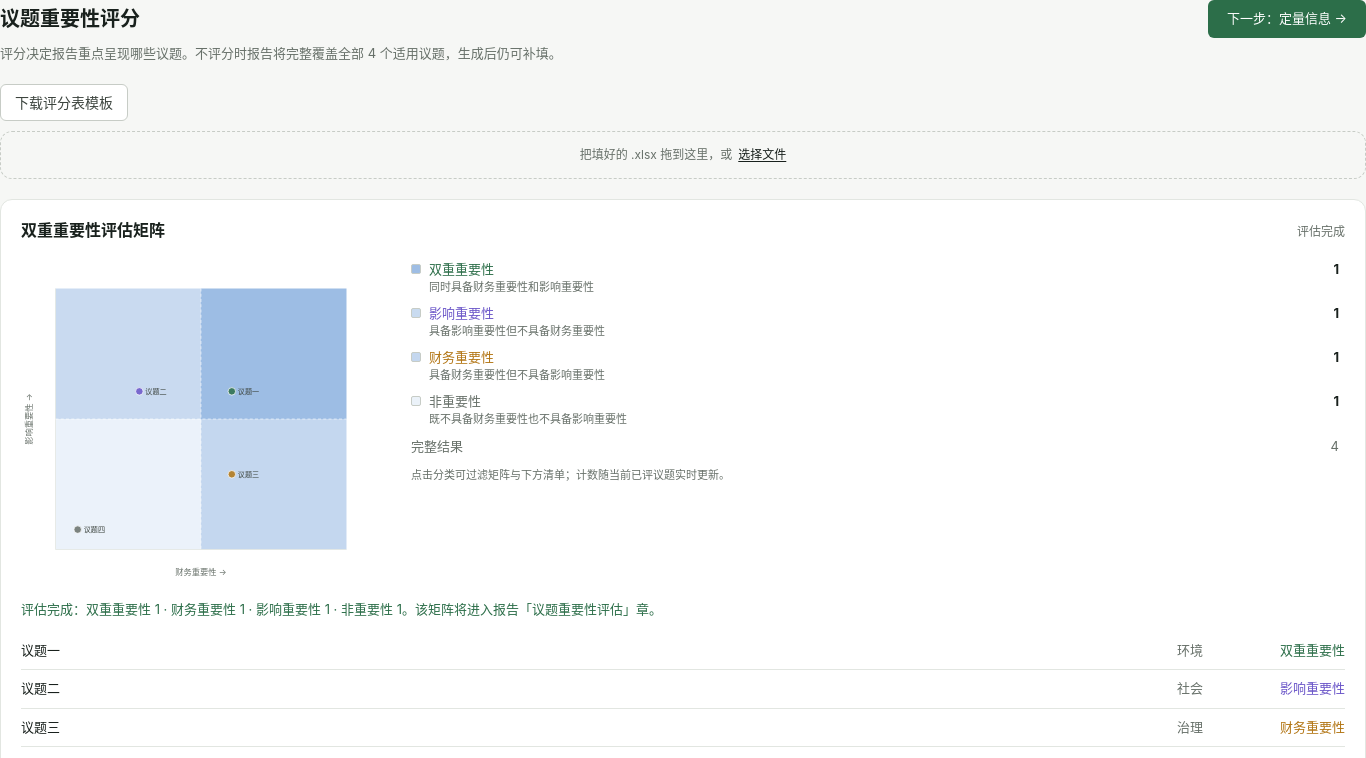
Scenario: 评分页分类图例交互 › 点击图例即时淡出对应散点并过滤清单，完整结果恢复全显
Expected: the picture named "双重重要性议题矩阵" is shown, [21,254,381,584]
Click the button "双重重要性 1 同时具备财务重要性和影响重要性" at (462, 269), box [405,256,1345,300]
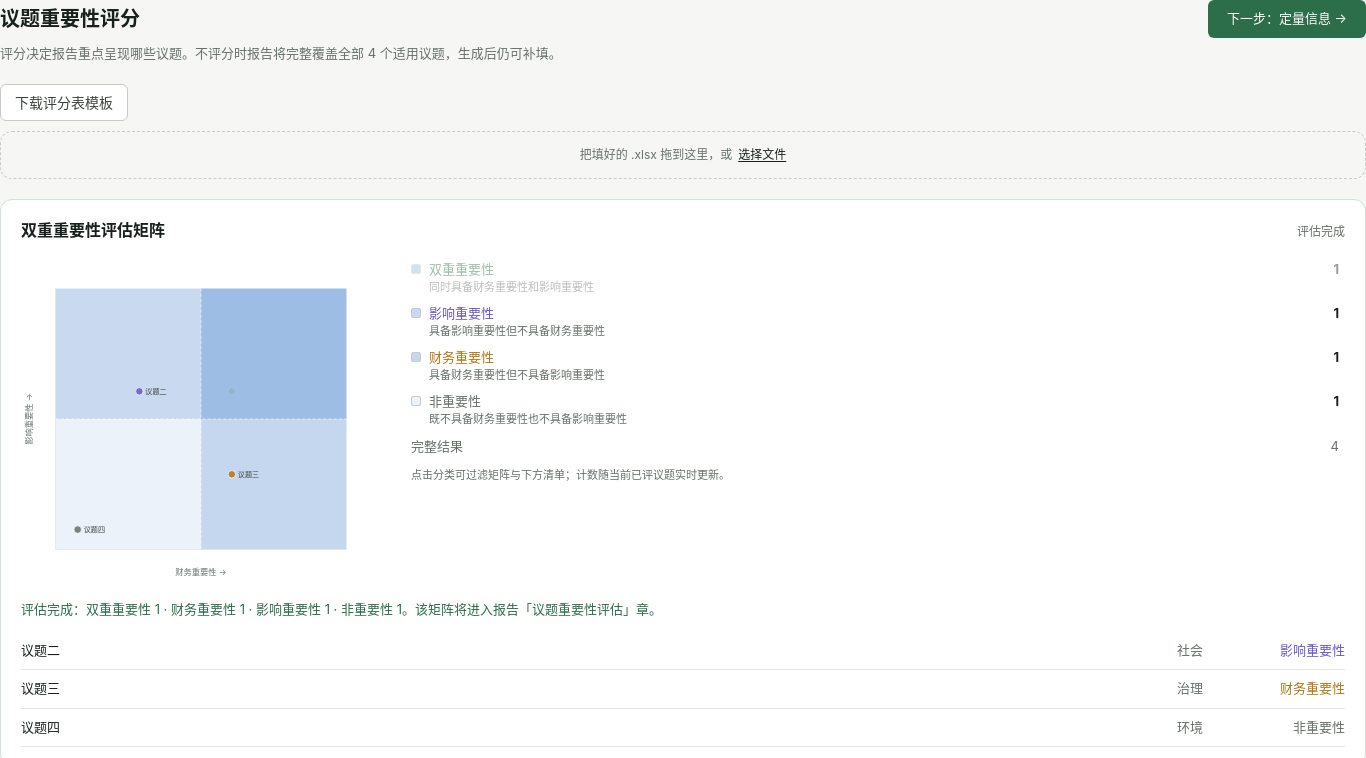
Expected: the text "议题一" is not shown
Expected: the button "双重重要性 1 同时具备财务重要性和影响重要性" is not pressed, [405,256,1345,300]
Click the button "完整结果 4" at (437, 446), box [405,432,1345,461]
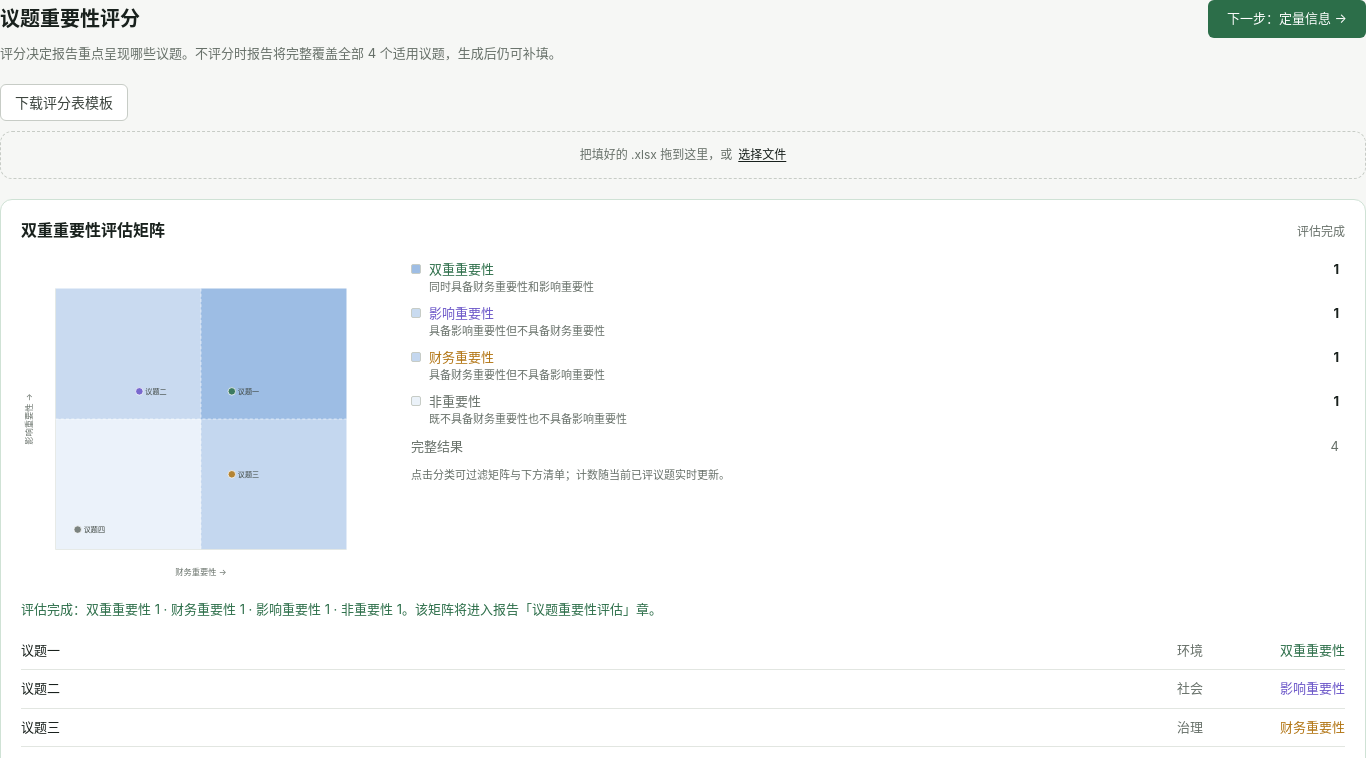
Expected: the text "议题一" is shown, [21,642,60,658]
